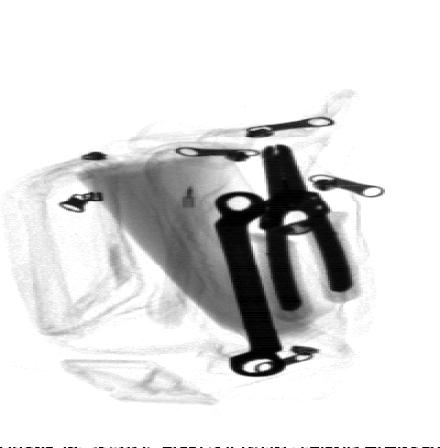Pliers: (258, 142, 356, 313)
Wrench: (213, 189, 288, 378)
